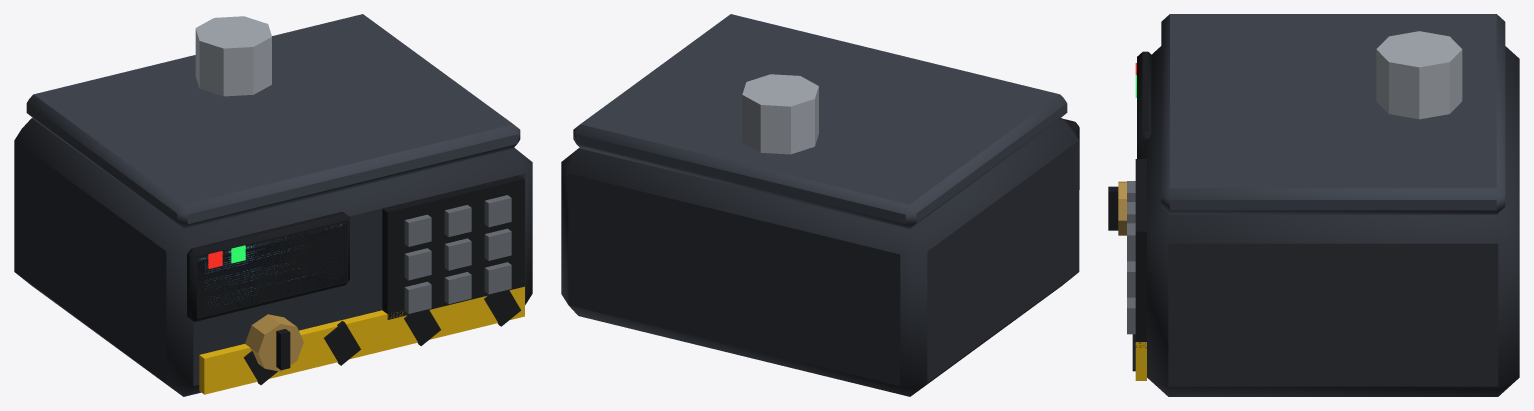
The model's file is commsunit_encryption_unit.glb.
The picture shows the model from 3 angles, left to right: view 1: azimuth 30°, elevation 25°; view 2: azimuth 150°, elevation 25°; view 3: azimuth 270°, elevation 25°; orthographic projection. The views are drawn at different scales.
Parts seen in each view (by area): view 1: commsunit_encryption_unit; view 2: commsunit_encryption_unit; view 3: commsunit_encryption_unit.
Boxes of the visible parts, <box> form: commsunit_encryption_unit: <box>14,14,532,396</box>; commsunit_encryption_unit: <box>561,14,1079,396</box>; commsunit_encryption_unit: <box>1108,14,1519,396</box>.
Bounding box in the file's own units: 0.32 × 0.2 × 0.287.
10 materials, 1 textured.
